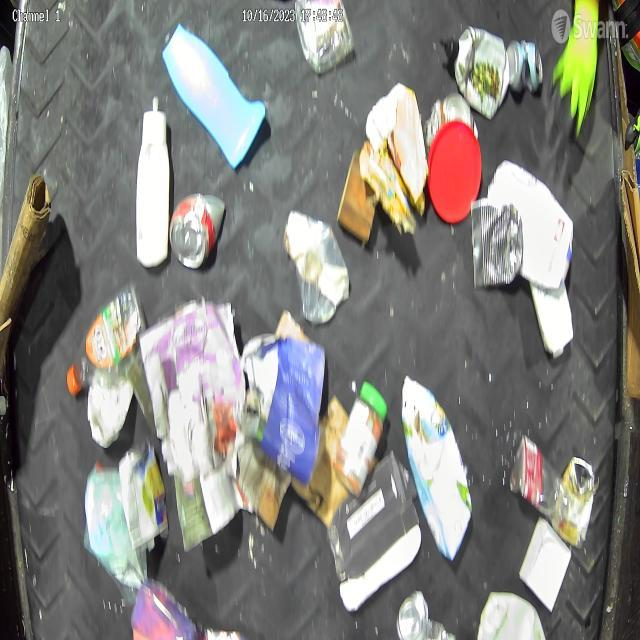can: (468, 198, 524, 292), (170, 194, 224, 273), (456, 24, 504, 104), (556, 454, 595, 538), (503, 44, 542, 88)
plastic_bottle: (516, 432, 574, 516)
